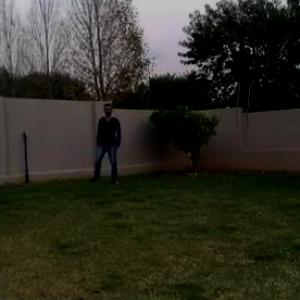follow: (99, 101, 119, 185)
